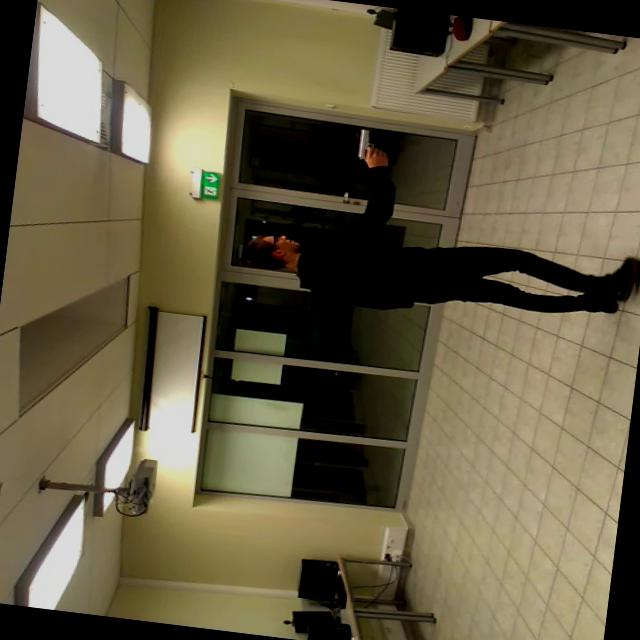handgun: (346, 128, 396, 169)
